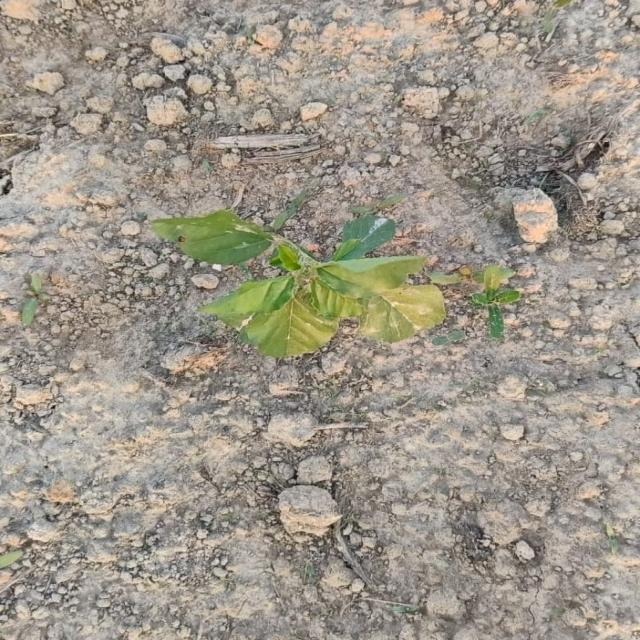weed: (151, 190, 445, 358), (151, 194, 444, 357), (153, 211, 445, 357), (471, 265, 521, 339)
